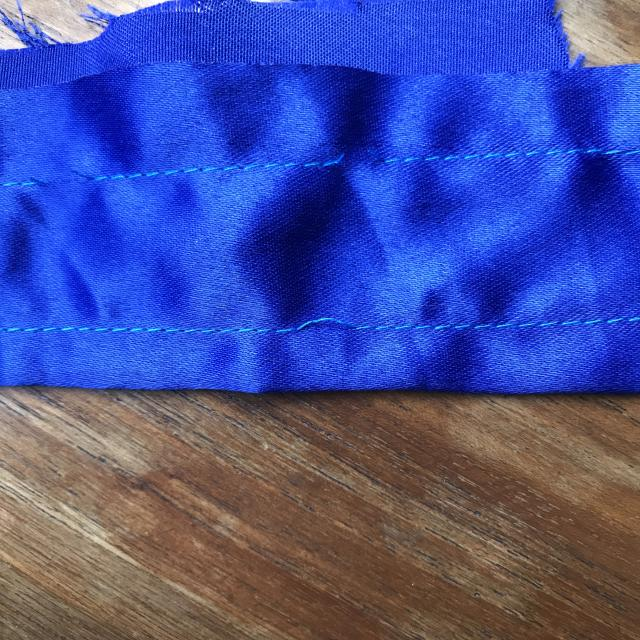broken: (296, 141, 427, 177)
skip: (266, 297, 371, 347)
